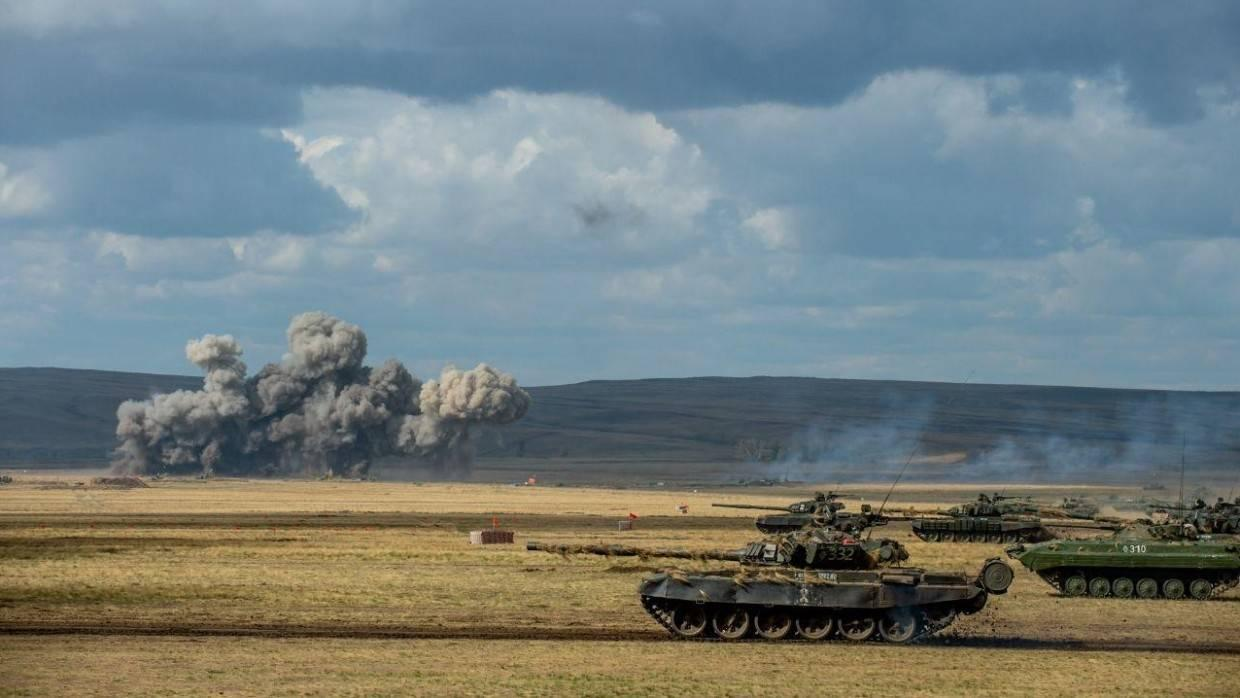tank: (525, 521, 1018, 645), (1009, 519, 1240, 602), (881, 494, 1049, 544), (709, 491, 889, 537)
